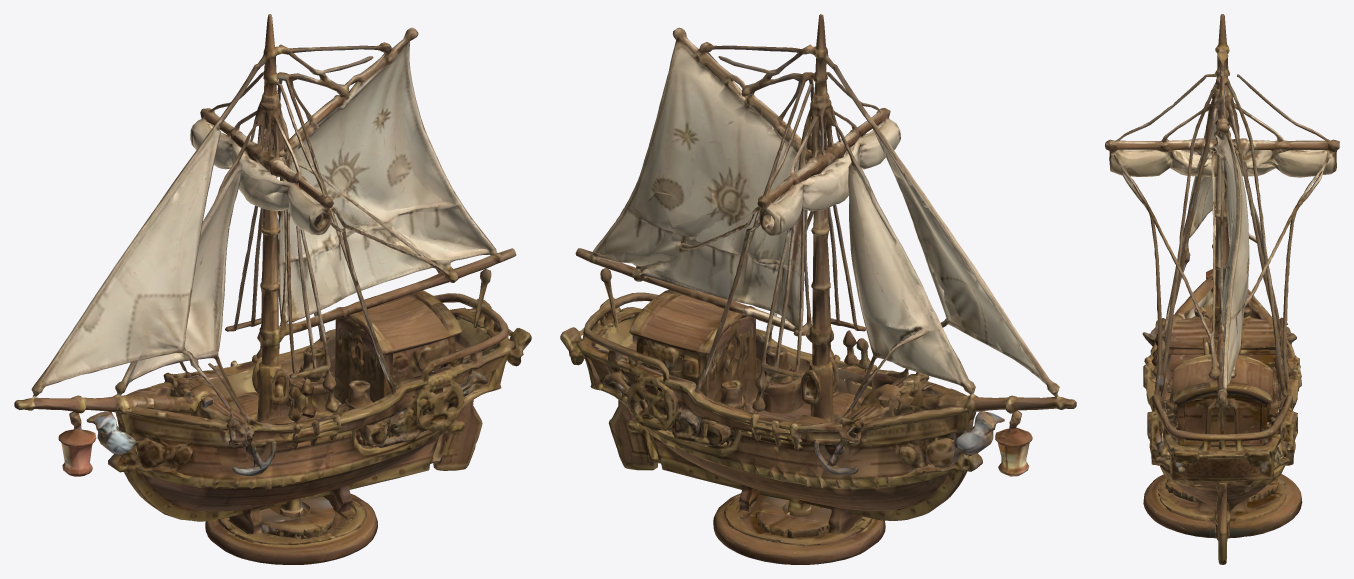
The model's file is sail-vessel.glb.
3 views of the same model, side by side, from view 1: azimuth 30°, elevation 25°; view 2: azimuth 150°, elevation 25°; view 3: azimuth 270°, elevation 25° (orthographic). The views are drawn at different scales.
Parts seen in each view (by area): view 1: geometry_0; view 2: geometry_0; view 3: geometry_0.
Boxes of the visible parts, x1,y1,x2,y2 form: geometry_0: [14, 14, 531, 564]; geometry_0: [560, 14, 1076, 564]; geometry_0: [1105, 14, 1339, 564].
Size of the model in its own units: 0.5215 by 0.5197 by 0.2301.
1 material, 1 textured.
